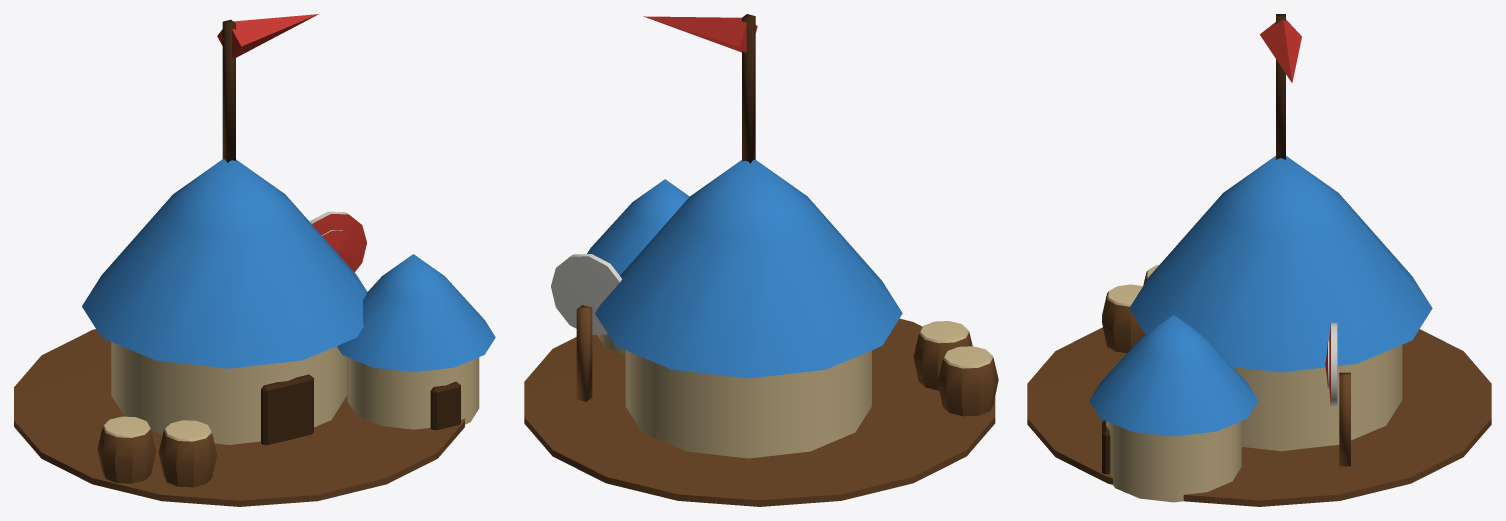
3 renders of one model, left to right at view 1: azimuth 30°, elevation 25°; view 2: azimuth 150°, elevation 25°; view 3: azimuth 270°, elevation 25°, orthographic. The views are drawn at different scales.
Parts seen in each view (by area): view 1: vila_0_base, vila_1_torreta; view 2: vila_0_base, vila_1_torreta; view 3: vila_0_base, vila_1_torreta.
Part boxes in pixels (<box>): vila_0_base: <box>14,159,495,506</box>; vila_1_torreta: <box>217,14,318,162</box>; vila_0_base: <box>524,159,998,506</box>; vila_1_torreta: <box>643,14,757,163</box>; vila_0_base: <box>1027,156,1491,506</box>; vila_1_torreta: <box>1260,14,1301,159</box>.
Bounding box in the file's own units: 1.34 × 1.21 × 1.3.
